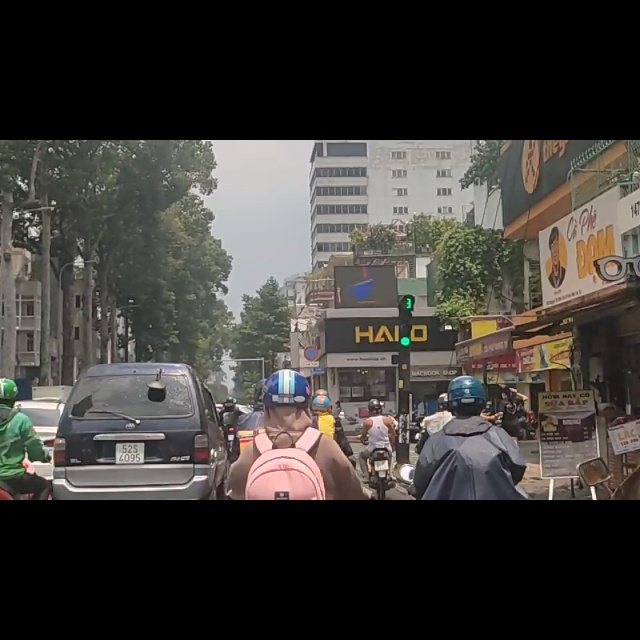bien_cam: (303, 365, 321, 396)
